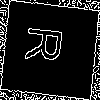R: (25, 24, 72, 65)
